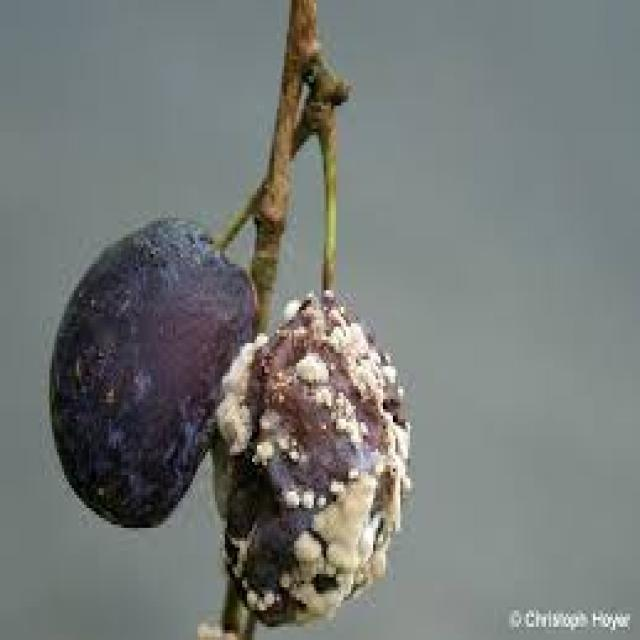organic waste: (212, 287, 412, 624), (44, 211, 254, 521)
